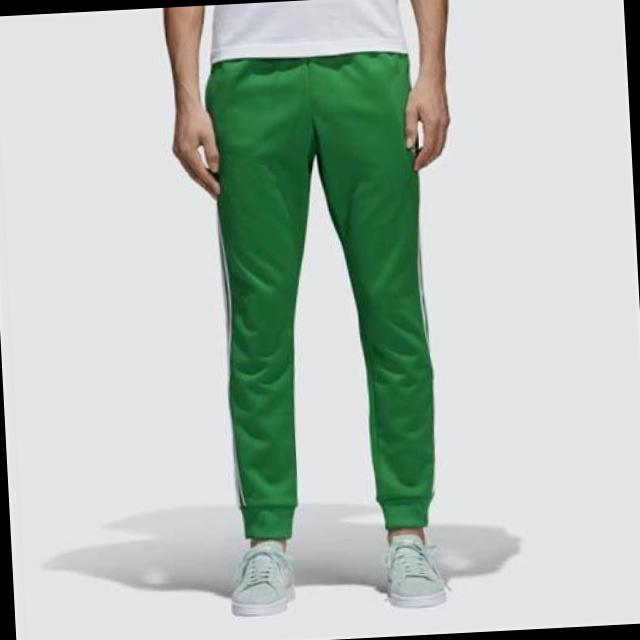pants: (200, 48, 440, 543)
